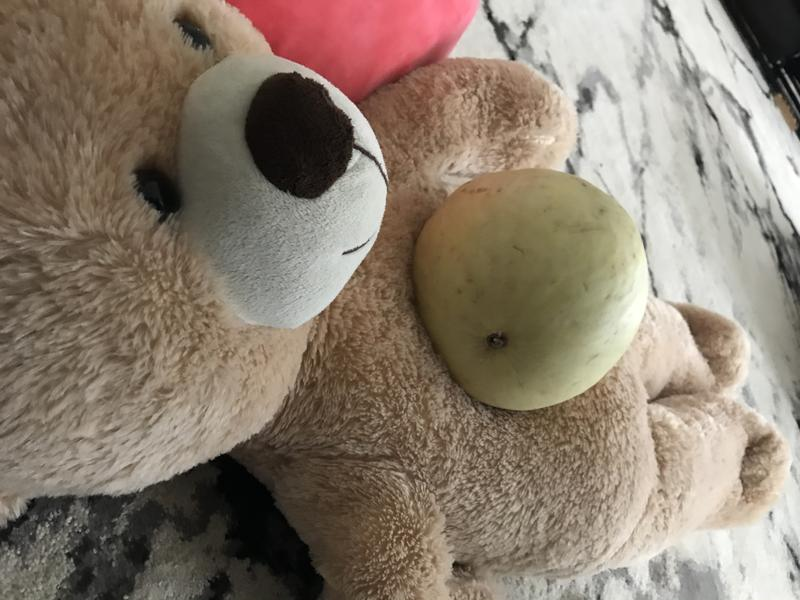honeydew: (407, 162, 654, 422)
